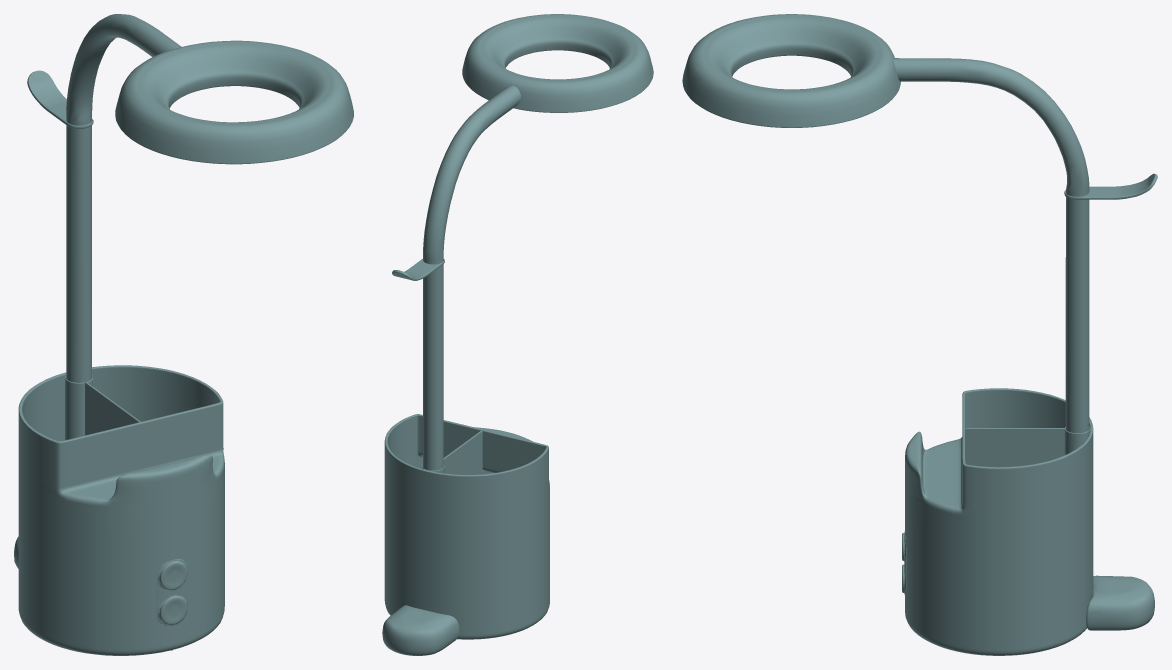
The model's file is 06 - BRUNBÅGE LED work lamp - with storage dimmableturquoise.glb.
3 views of the same model, side by side, from view 1: azimuth 30°, elevation 25°; view 2: azimuth 150°, elevation 25°; view 3: azimuth 270°, elevation 25° (orthographic). The views are drawn at different scales.
Visible parts, largest first — view 1: Mesh_0; view 2: Mesh_0; view 3: Mesh_0.
Part boxes in pixels (left/top/right/bottom): Mesh_0: left=14, top=14, right=353, bottom=655; Mesh_0: left=382, top=14, right=653, bottom=655; Mesh_0: left=682, top=14, right=1157, bottom=655.
Size of the model in its own units: 0.1 by 0.2831 by 0.2159.
